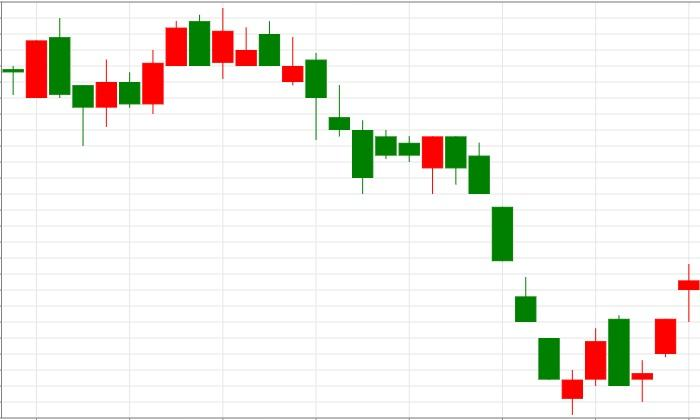bearish_engulfing_fall: (72, 8, 281, 147)
bullish_engulfing_rise: (48, 17, 164, 146)
